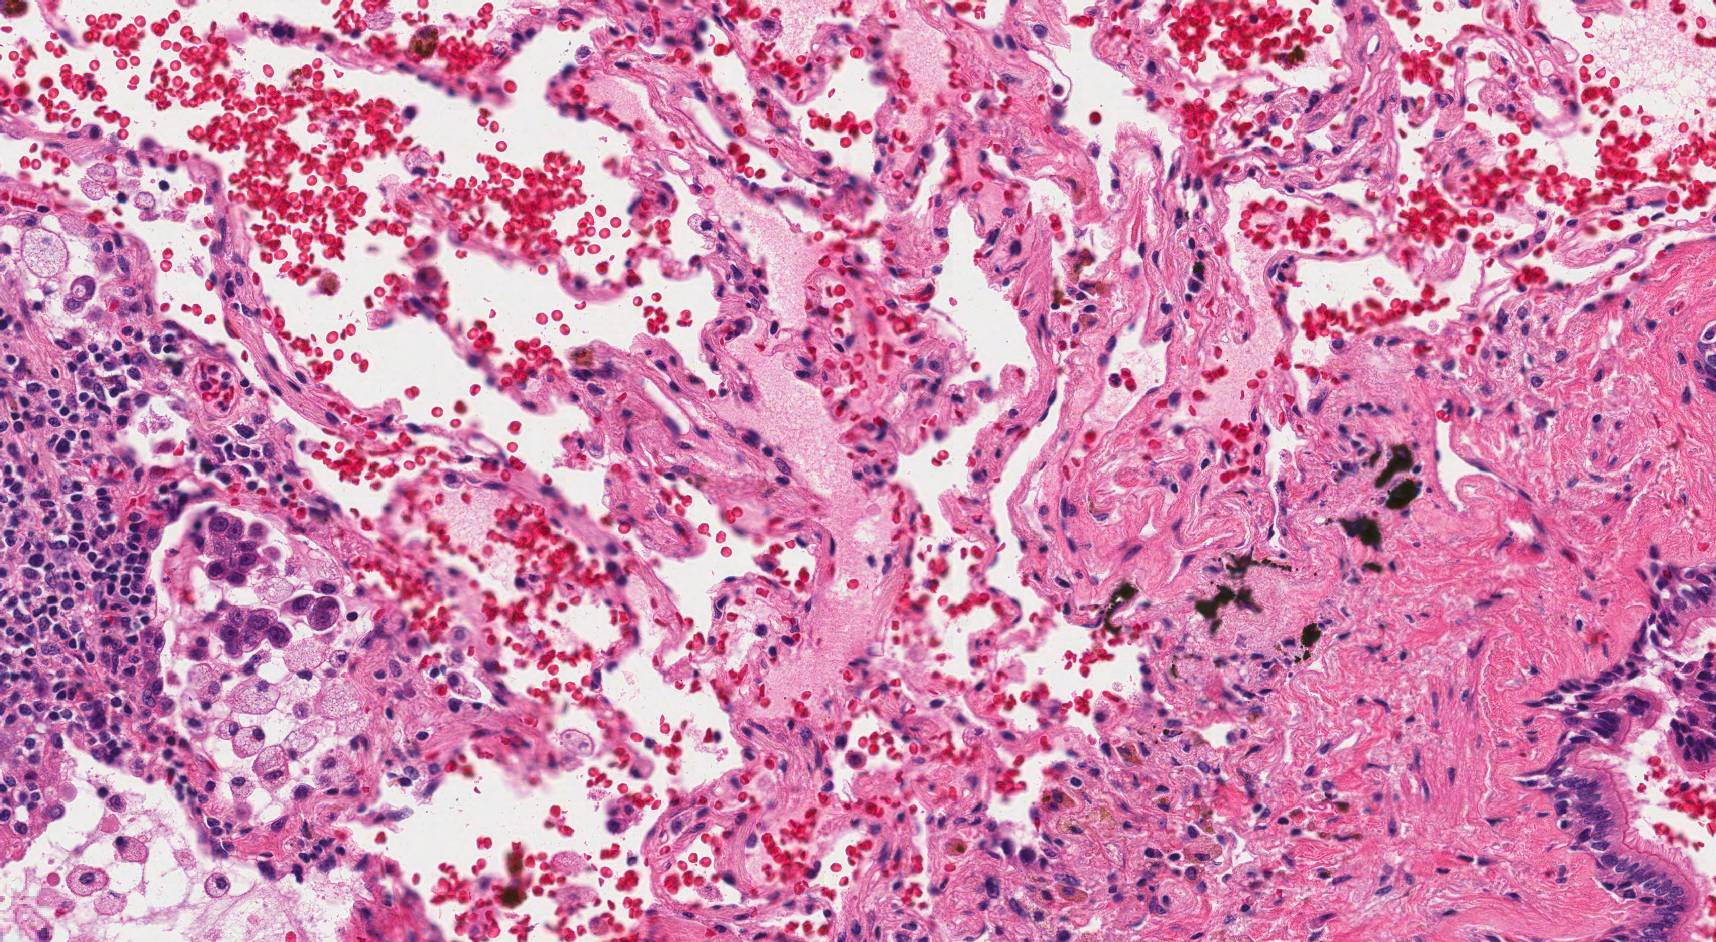stas: (193, 512, 276, 587), (210, 605, 291, 657), (283, 595, 342, 631)
